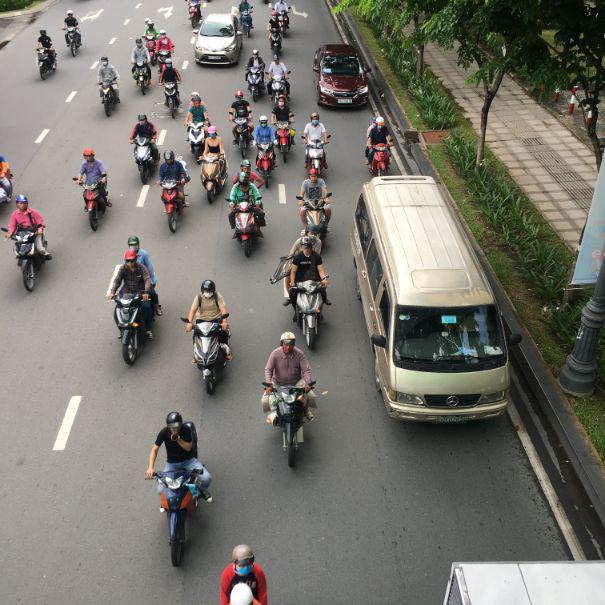car: (351, 169, 511, 417), (316, 46, 371, 113), (195, 17, 243, 67)
motorbike: (264, 380, 316, 467), (156, 468, 201, 567), (190, 319, 233, 395), (285, 275, 329, 349), (114, 289, 156, 366), (8, 227, 49, 292), (228, 204, 265, 258), (198, 148, 228, 206), (81, 179, 110, 233), (161, 181, 190, 234), (132, 135, 161, 185), (131, 41, 153, 94), (99, 77, 121, 119), (162, 75, 183, 118), (368, 145, 393, 176), (39, 48, 58, 79), (65, 30, 80, 58)
